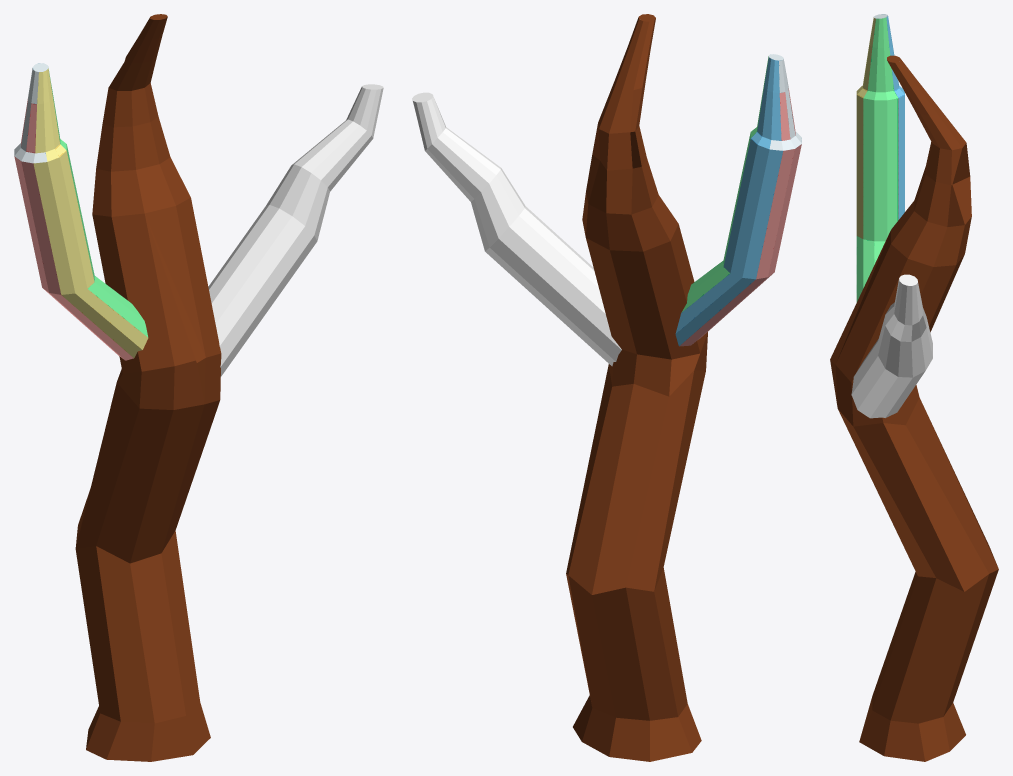
The model's file is Tree_A-newmodel.gltf.
The picture shows the model from 3 angles, left to right: view 1: azimuth 30°, elevation 25°; view 2: azimuth 150°, elevation 25°; view 3: azimuth 270°, elevation 25°; orthographic projection. The views are drawn at different scales.
Parts seen in each view (by area): view 1: cylinder; view 2: cylinder; view 3: cylinder.
Part boxes in pixels (x1,y1,x2,y2): cylinder: [14, 14, 383, 761]; cylinder: [412, 14, 801, 761]; cylinder: [830, 14, 998, 761].
Bounding box in the file's own units: 3.69 × 6.77 × 1.53.
Materials: 3 (2 with a texture image).
